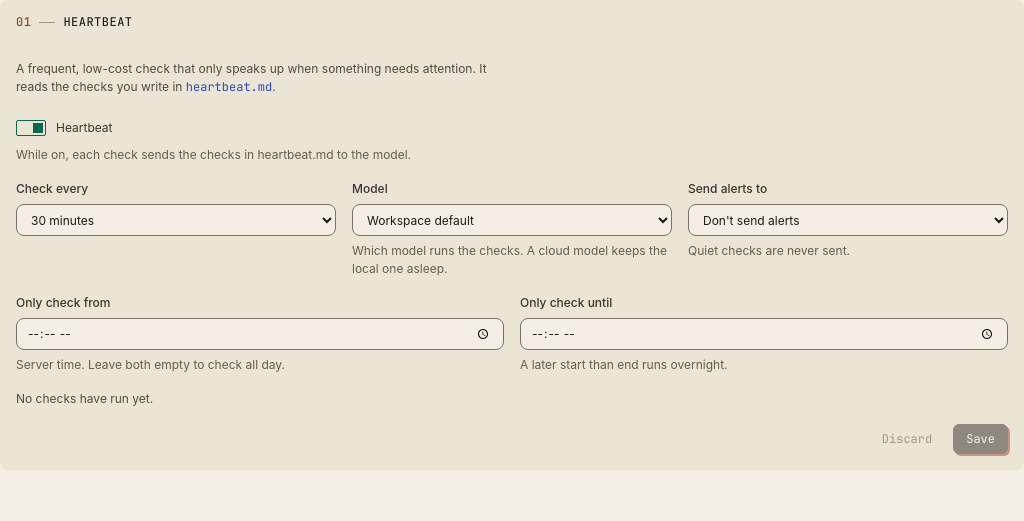
HeartbeatPanel › keeps a half-filled window editable after the heartbeat is switched off, so it can be fixed
In the time field labelled "Only check from": (260, 334) [16,318,504,350], type "08:00"
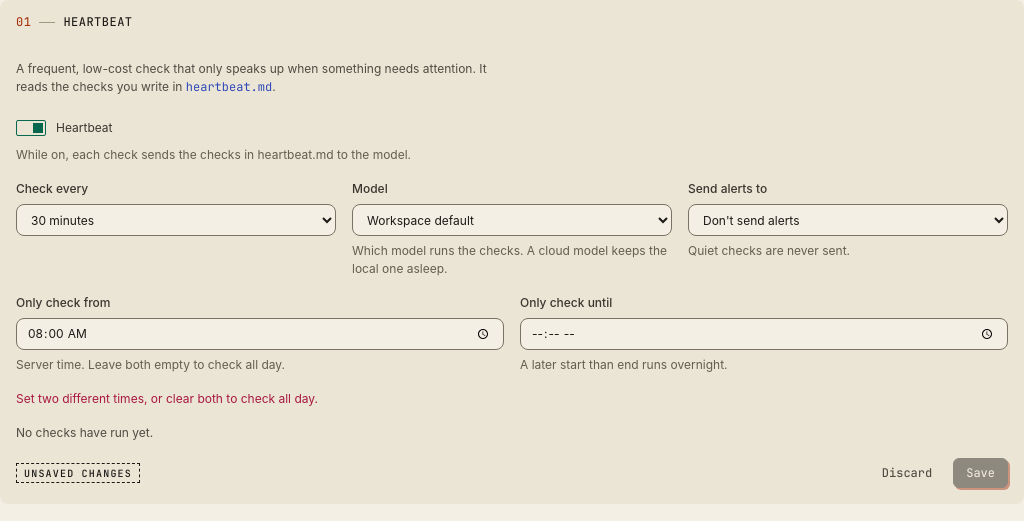
Click the switch labelled "Heartbeat": (64, 128) [16,119,112,137]
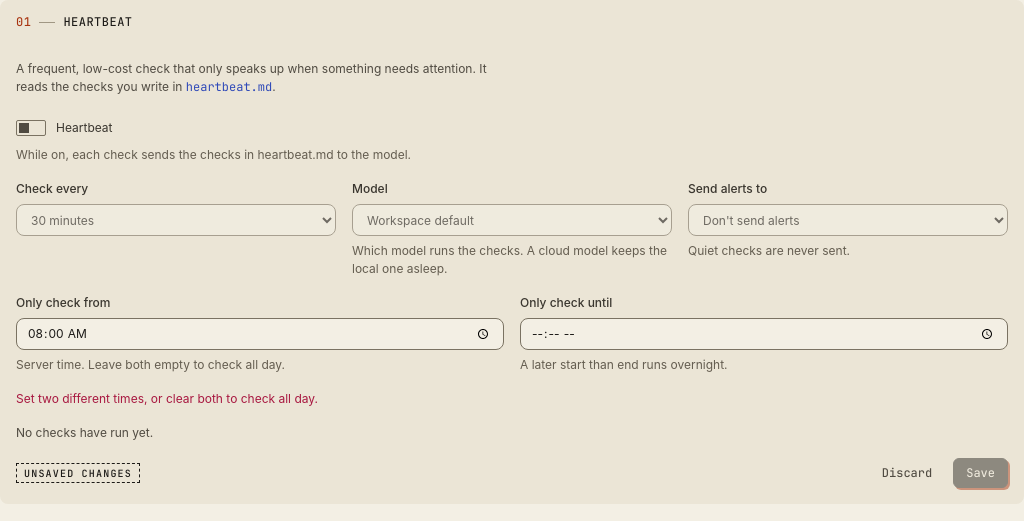
Clear the time field labelled "Only check from": (260, 334) [16,318,504,350]
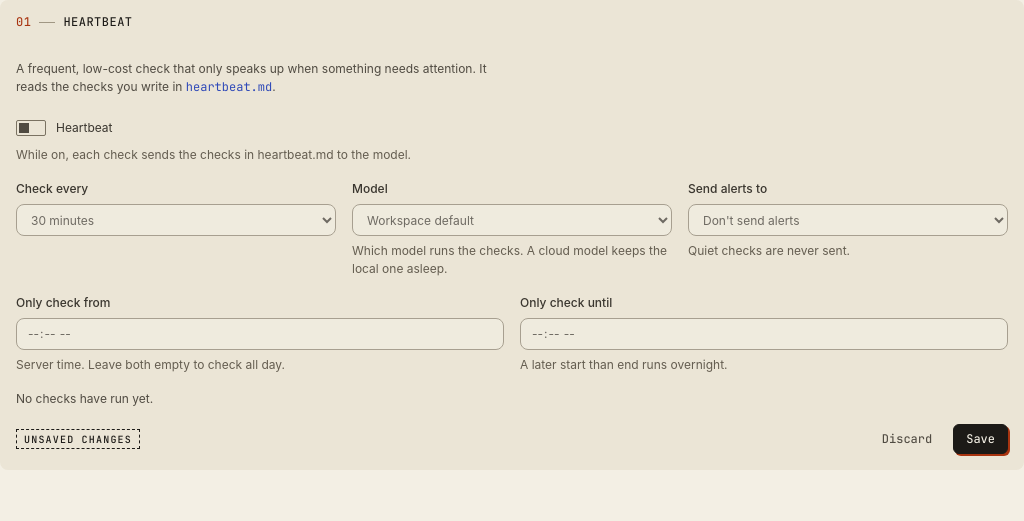
Check: the button "Save" is enabled, box [953,424,1008,454]
